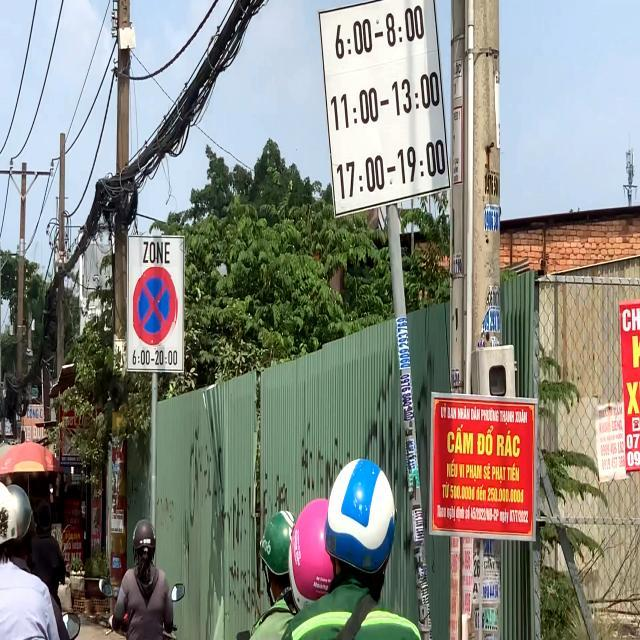P-130: (133, 267, 178, 347)
